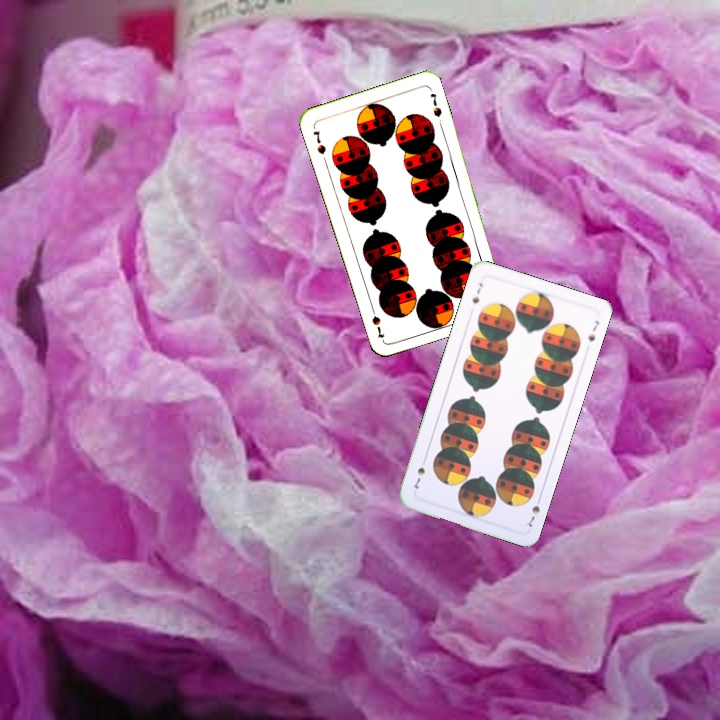S7: (308, 127, 328, 157), (524, 501, 543, 530), (468, 279, 485, 306)
